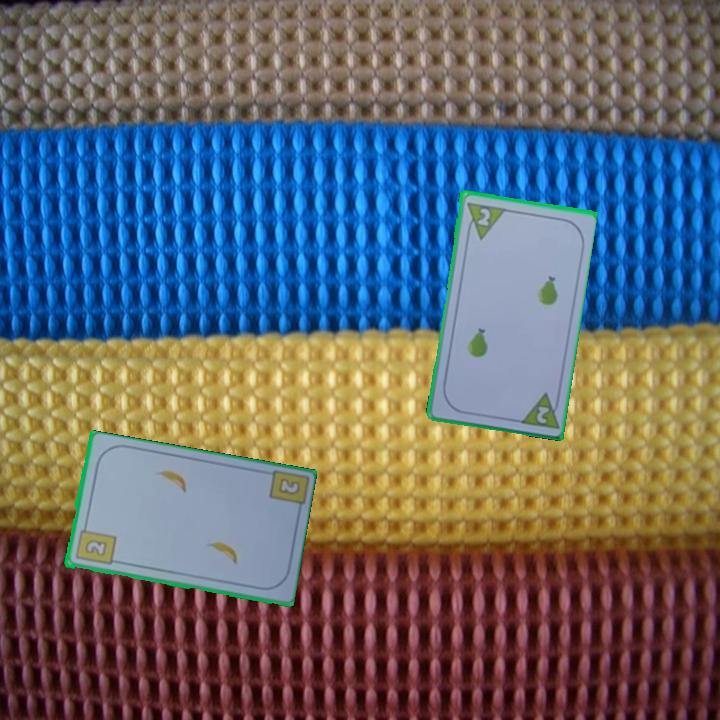2b: (72, 521, 118, 568), (277, 477, 301, 496)
2p: (515, 388, 563, 432), (463, 198, 506, 242)
